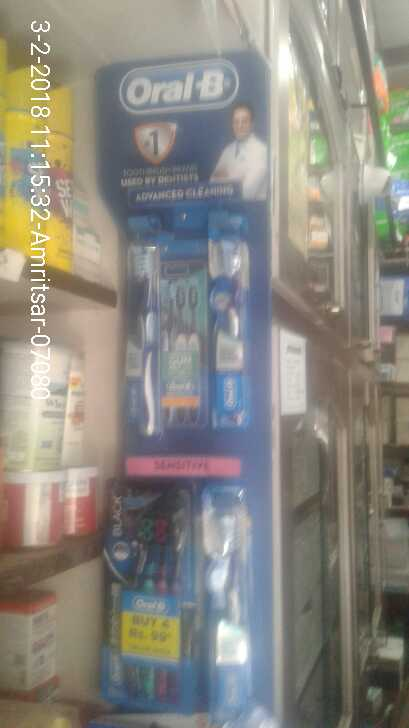oralb: (104, 496, 189, 715), (207, 508, 258, 707), (205, 227, 245, 422), (123, 230, 161, 434)
